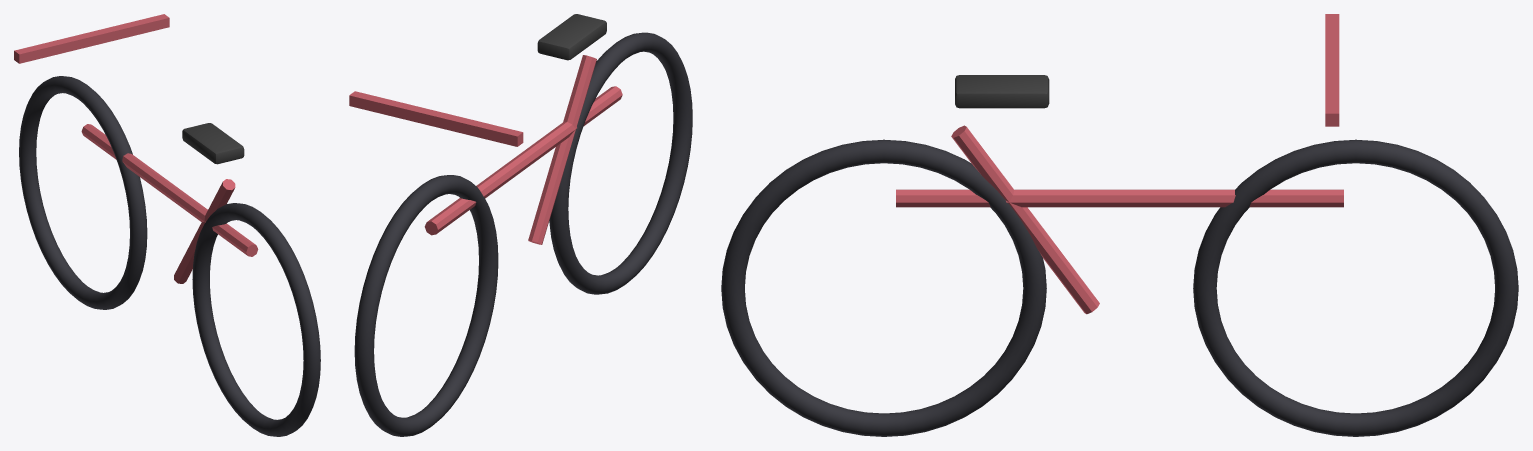
The model's file is sd_bicicleta.glb.
3 views of the same model, side by side, from view 1: azimuth 30°, elevation 25°; view 2: azimuth 150°, elevation 25°; view 3: azimuth 270°, elevation 25° (orthographic). The views are drawn at different scales.
Parts seen in each view (by area): view 1: Torus; view 2: Torus; view 3: Torus.
Boxes of the visible parts, x1,y1,x2,y2 form: Torus: (14,14,320,436); Torus: (349,14,692,436); Torus: (721,14,1518,436).
Bounding box in the file's own units: 0.5 × 0.87 × 1.69.
